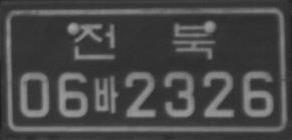0: (18, 70, 50, 117)
2: (202, 69, 235, 118), (124, 70, 157, 118)
3: (163, 70, 195, 118)
6: (241, 70, 275, 118), (56, 70, 89, 118)
바: (93, 75, 118, 113)
전북_D: (72, 20, 216, 60)
